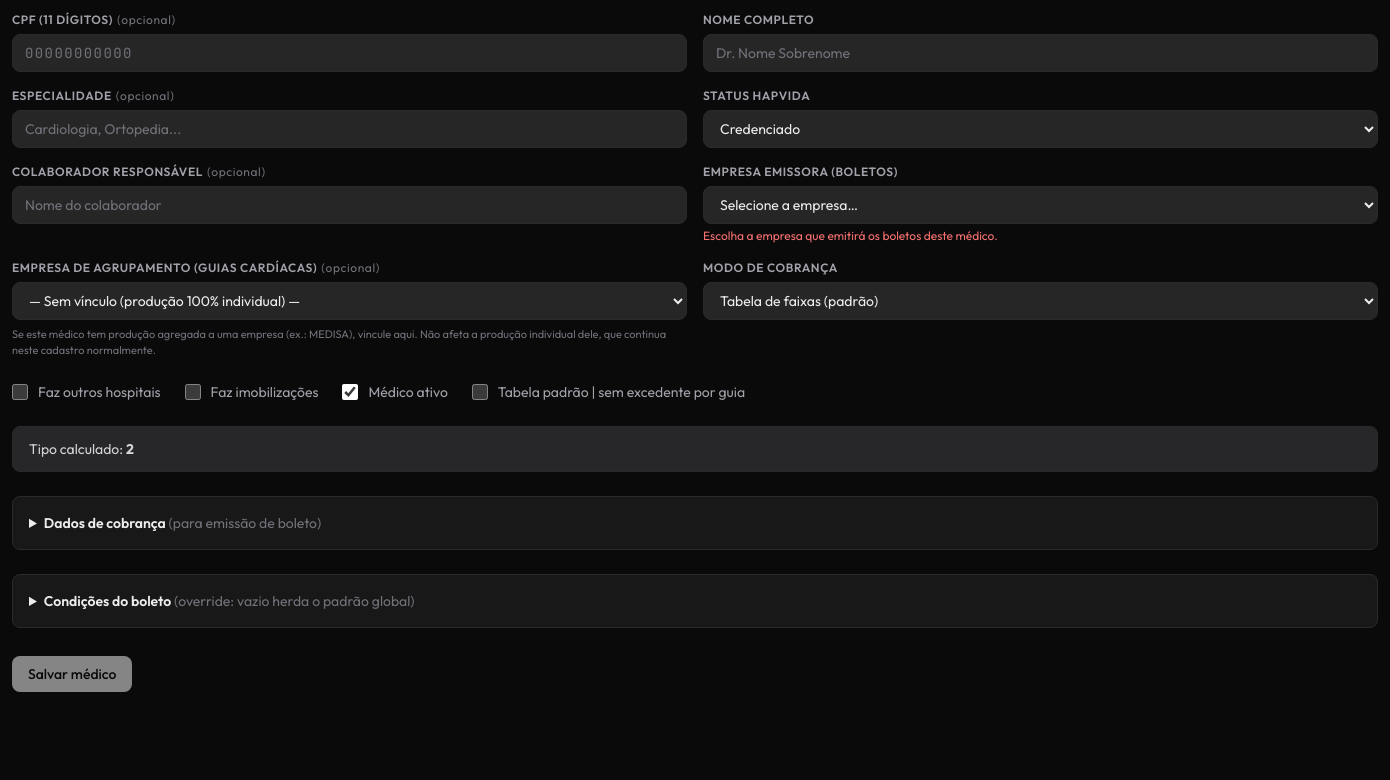
MedicoForm — campo "Mudança de data" segue o mesmo critério 3x1 do Engine › especialidade "Pediatra" (regra 3x1) exibe o campo
Type "12345678901" into the field labelled "CPF (11 dígitos)(opcional)" at coordinates (350, 53), box [12,34,687,72]
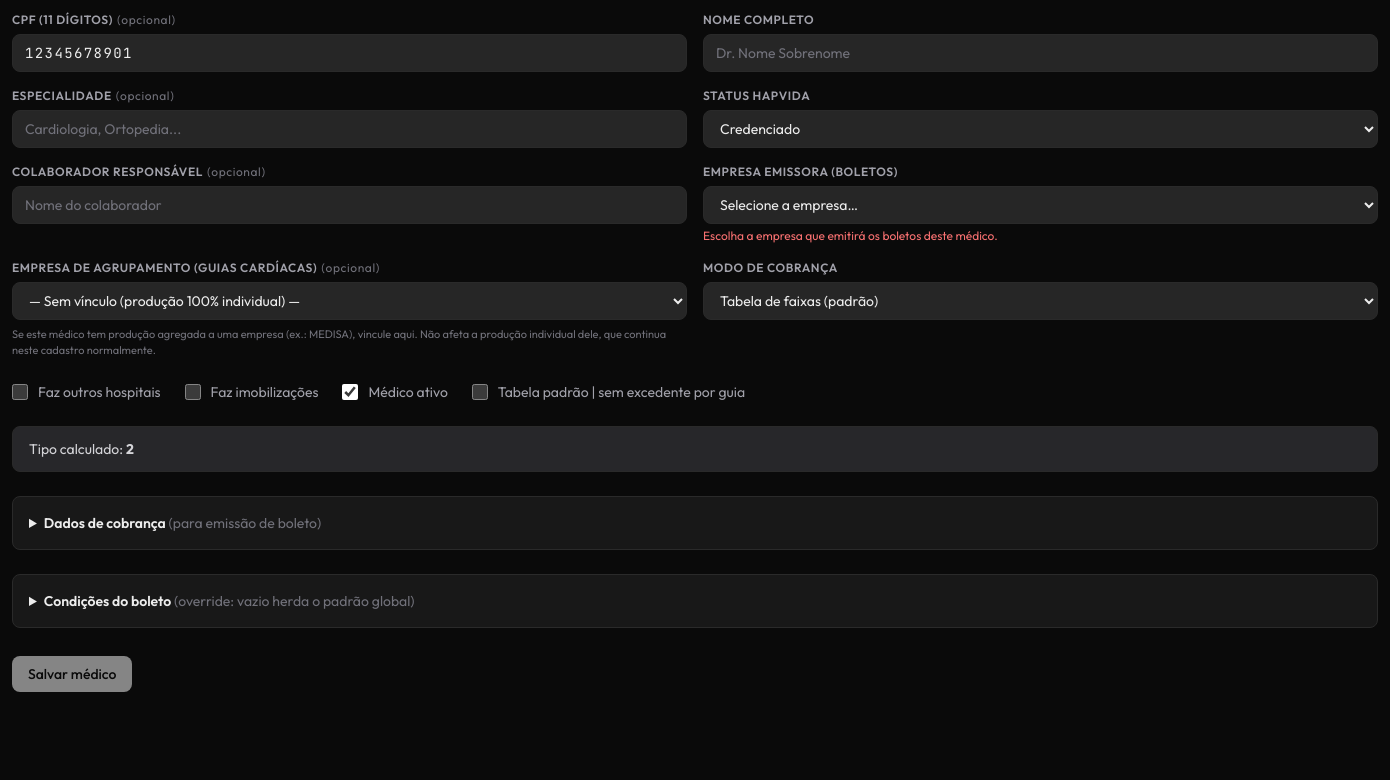
Type "Dr. Teste" into the field labelled "Nome completo" at coordinates (1040, 53), box [703,34,1378,72]
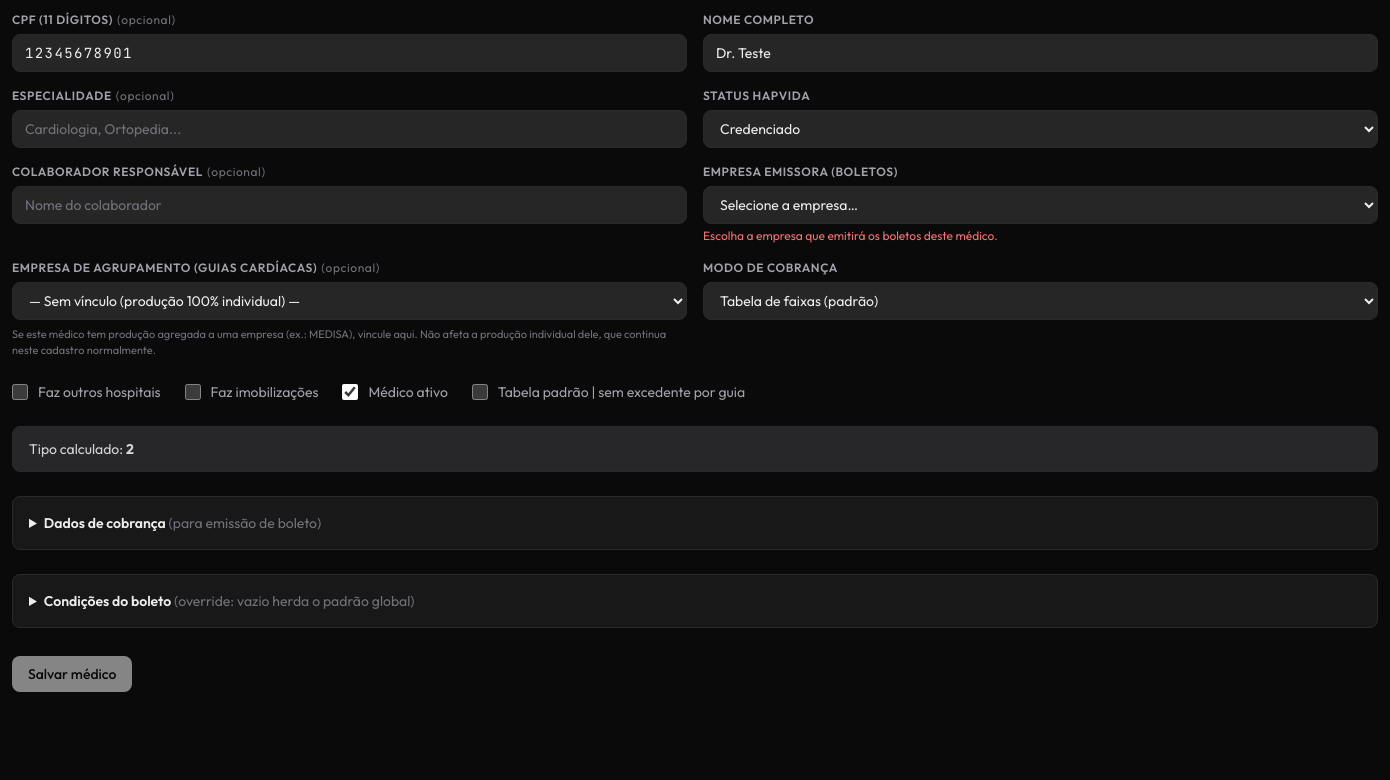
Select "MC" in the dropdown labelled "Empresa emissora" at coordinates (1040, 205), box [703,186,1378,224]
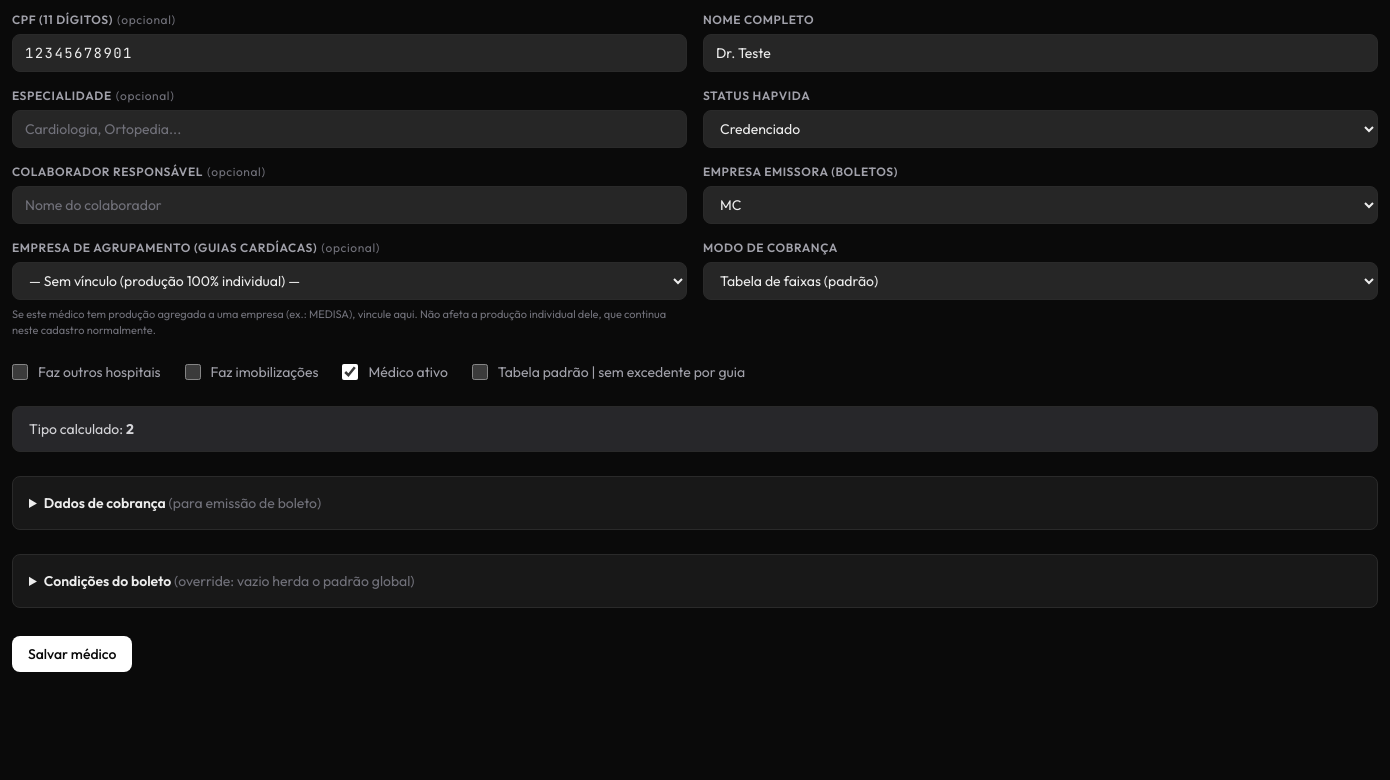
Type "Pediatra" into the field labelled "Especialidade(opcional)" at coordinates (350, 129), box [12,110,687,148]
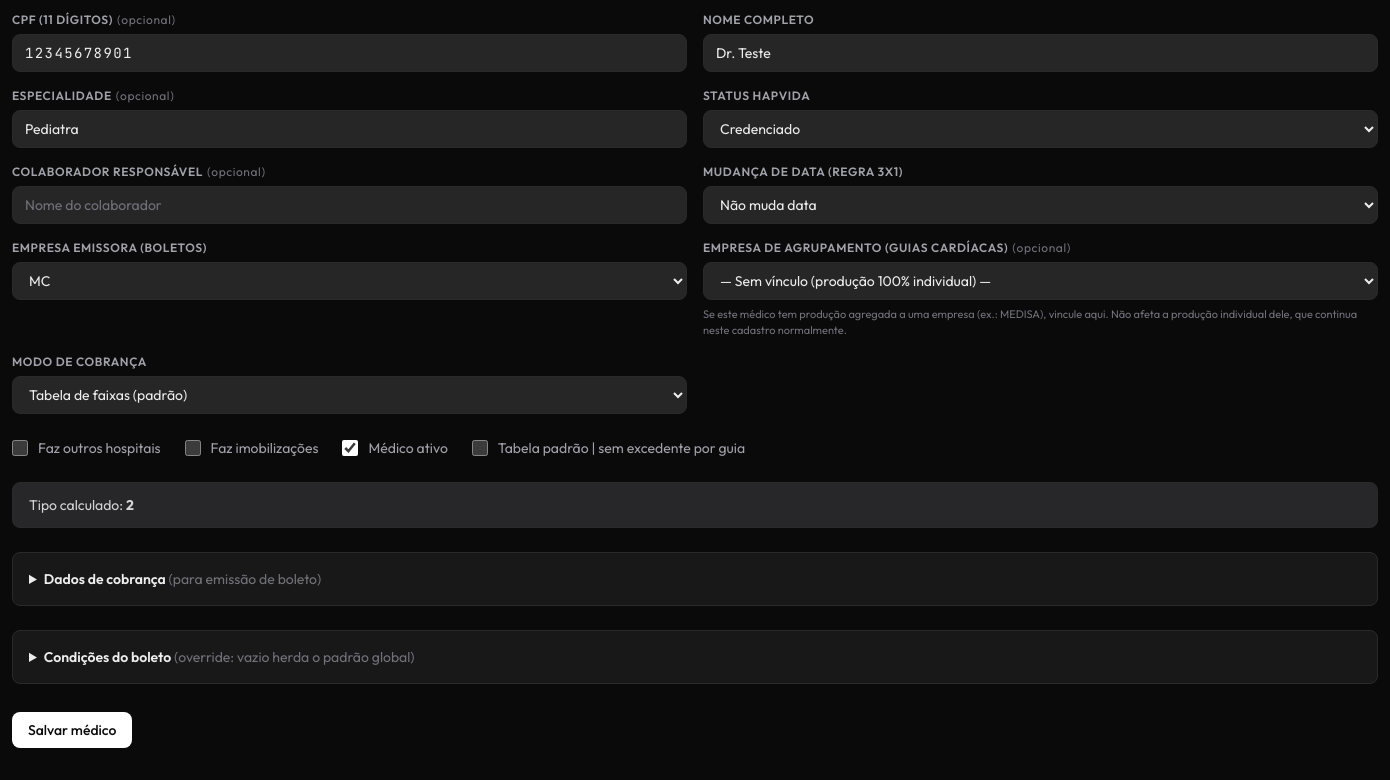
Now the dropdown labelled "Mudança de data (regra 3x1)" is shown, box [703,186,1378,224]
